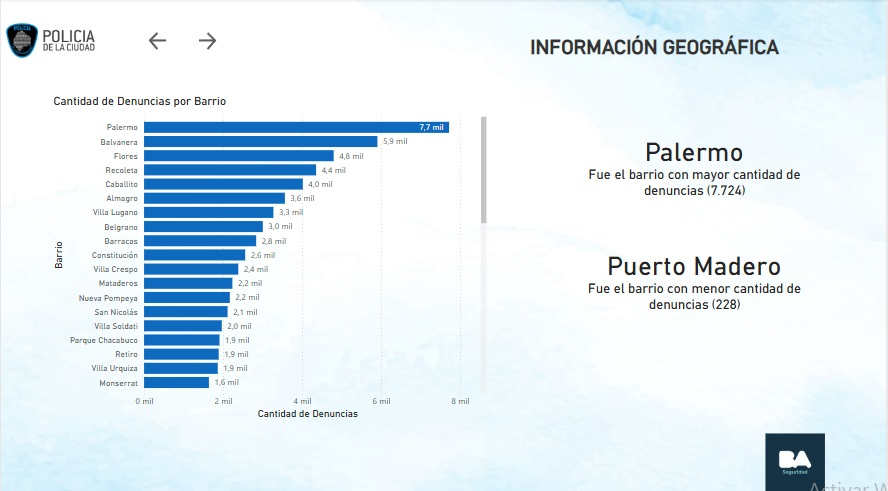

What the dashboard file says about the page in this screenshot:
{"tool":"powerbi","page":{"name":"Página 3","canvas":[1280,720],"ordinal":4},"visuals":[{"type":"image","box":[0,0,142.9,122.9],"z":0},{"type":"image","box":[1100,624.3,95.7,95.7],"z":1000},{"type":"textbox","box":[674.3,48.6,542.9,58.6],"z":2000},{"type":"barChart","fields":{"Category":["Barrio.barrio"],"Y":["TablaMedidas.Cantidad_Delitos"]},"box":[71.4,138.6,635.7,475.7],"z":3000},{"type":"actionButton","box":[206.7,41.9,70.8,40.5],"z":4000},{"type":"actionButton","box":[277.6,41.9,66.5,40.5],"z":5000},{"type":"card","fields":{"Values":["TablaMedidas.BarrioMasDenuncias"]},"box":[879,159,266,127.2],"z":6000},{"type":"card","fields":{"Values":["TablaMedidas.BarrioMenosDenuncias"]},"box":[806.7,374.5,409.2,134.5],"z":7000},{"type":"card","fields":{"Values":["TablaMedidas.MaxDenunciasBarrio"]},"box":[916.6,270.4,189.4,89.6],"z":8000},{"type":"card","fields":{"Values":["TablaMedidas.MinDenunciasBarrio"]},"box":[916.6,494.5,189.4,89.6],"z":9000}]}

Visuals, with their boxes in screenshot pixels (x1, y1, x2, y2), scaled from the page's 1280x720 canvas onto the 888x491 screenshot:
image: 0, 0, 99, 84
image: 763, 426, 830, 490
textbox: 468, 33, 844, 73
barChart - Barrio.barrio x TablaMedidas.Cantidad_Delitos: 50, 95, 491, 419
actionButton: 143, 29, 193, 56
actionButton: 193, 29, 239, 56
card - TablaMedidas.BarrioMasDenuncias: 610, 108, 794, 195
card - TablaMedidas.BarrioMenosDenuncias: 560, 255, 844, 347
card - TablaMedidas.MaxDenunciasBarrio: 636, 184, 767, 246
card - TablaMedidas.MinDenunciasBarrio: 636, 337, 767, 398
